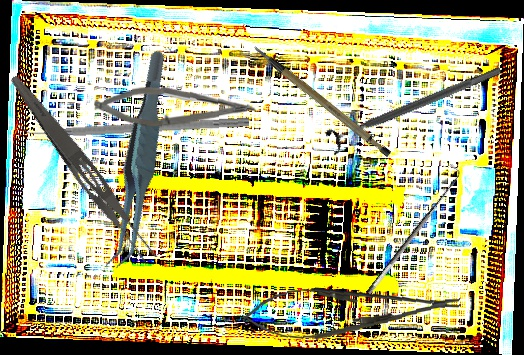Chopper: (16, 104, 250, 140)
Dressing Forceps: (1, 71, 162, 268)
Fixation Ring: (323, 57, 507, 157)
Hook Surgical: (356, 163, 467, 296)
Micro Scissor: (93, 83, 258, 129)
Needle Holder: (241, 277, 463, 345)
Scalpel Handle: (251, 24, 394, 175)
Tissue Forceps: (67, 48, 211, 274)
